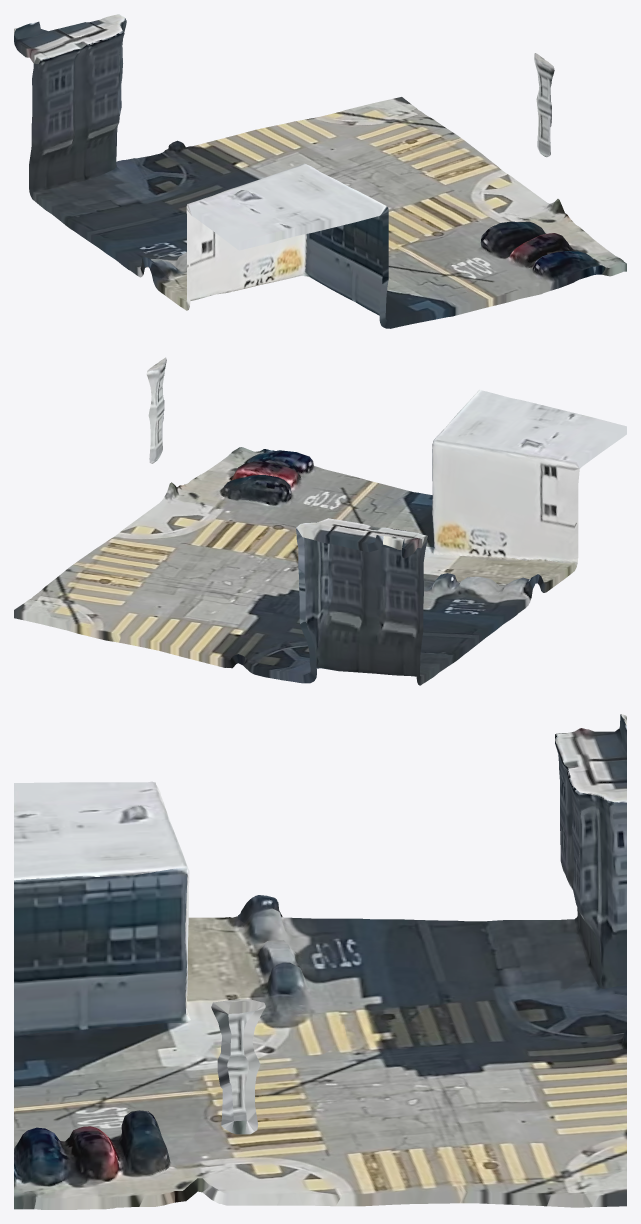
File: z20-167729-405194-h0-yup-uvflip-v3-world.glb
The picture shows the model from 3 angles, top to bottom: view 1: azimuth 30°, elevation 25°; view 2: azimuth 150°, elevation 25°; view 3: azimuth 270°, elevation 25°; orthographic projection. The views are drawn at different scales.
Size of the model in its own units: 30.16 by 13.16 by 30.32.
1 material, 1 textured.
